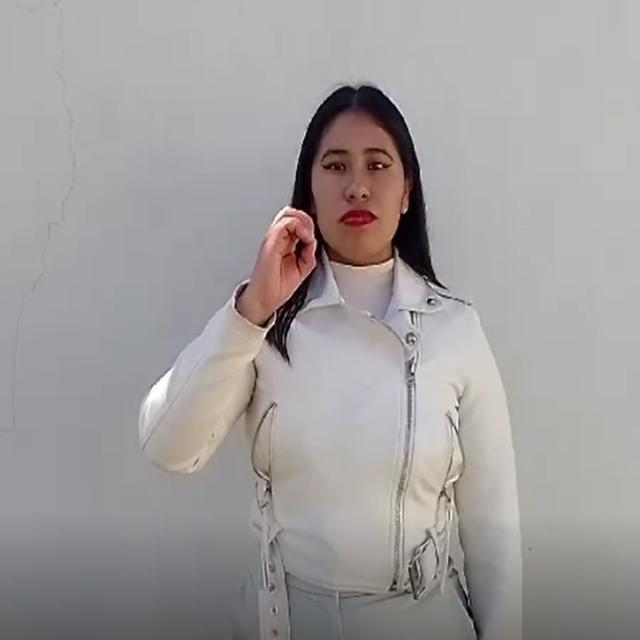O: (244, 195, 350, 336)
